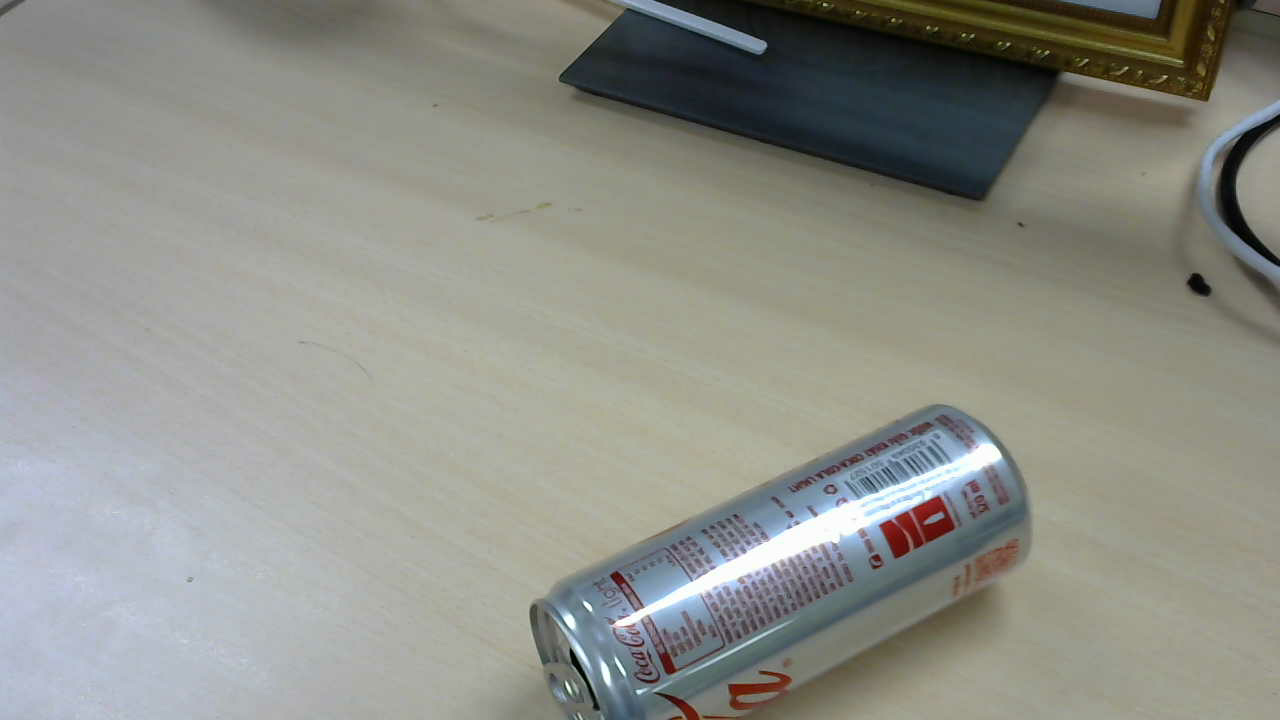Coca_Cola: (532, 405, 1042, 698)
